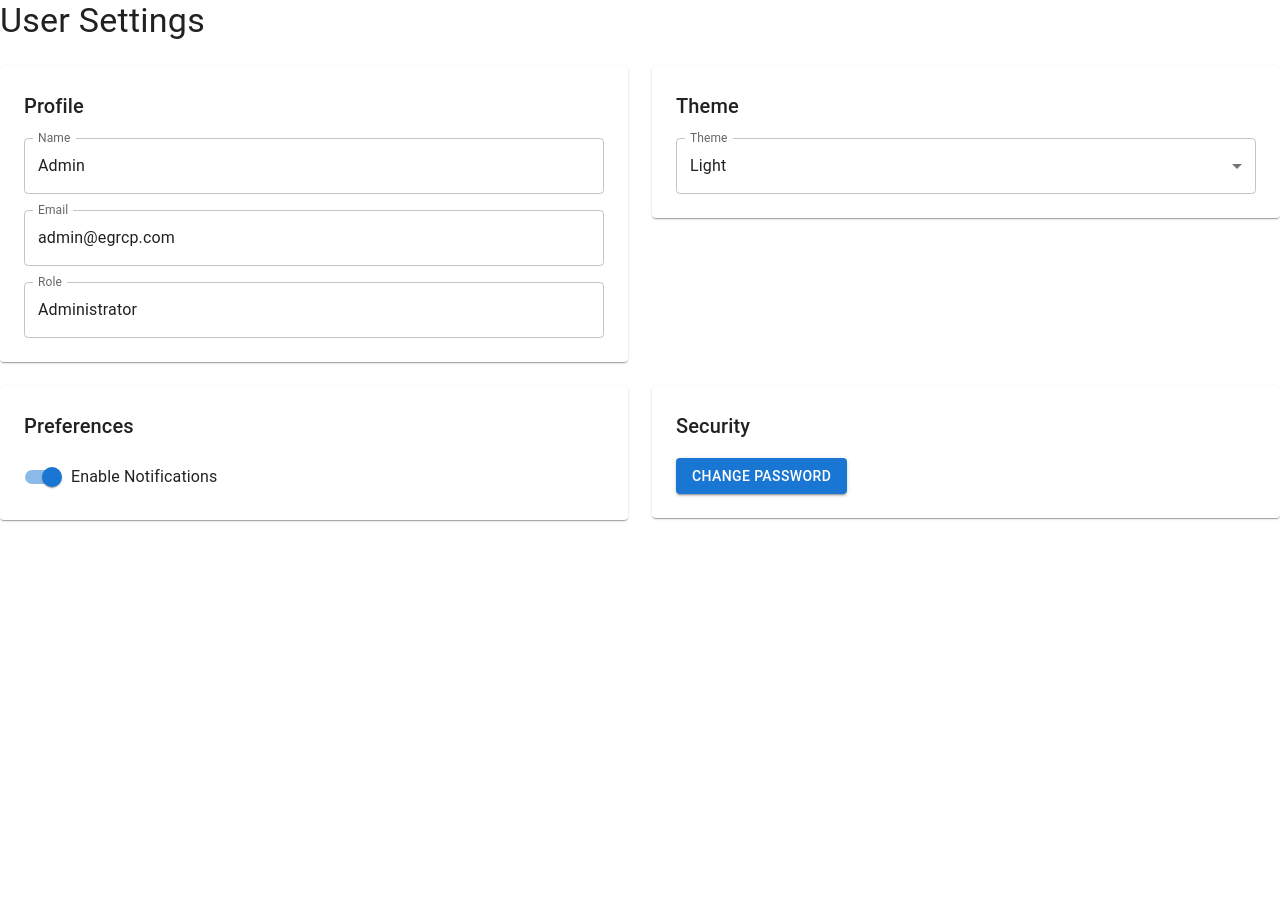
Test: Settings Advanced › shows password mismatch
Click the button "Change Password" at [762, 476], box [676,458,847,494]
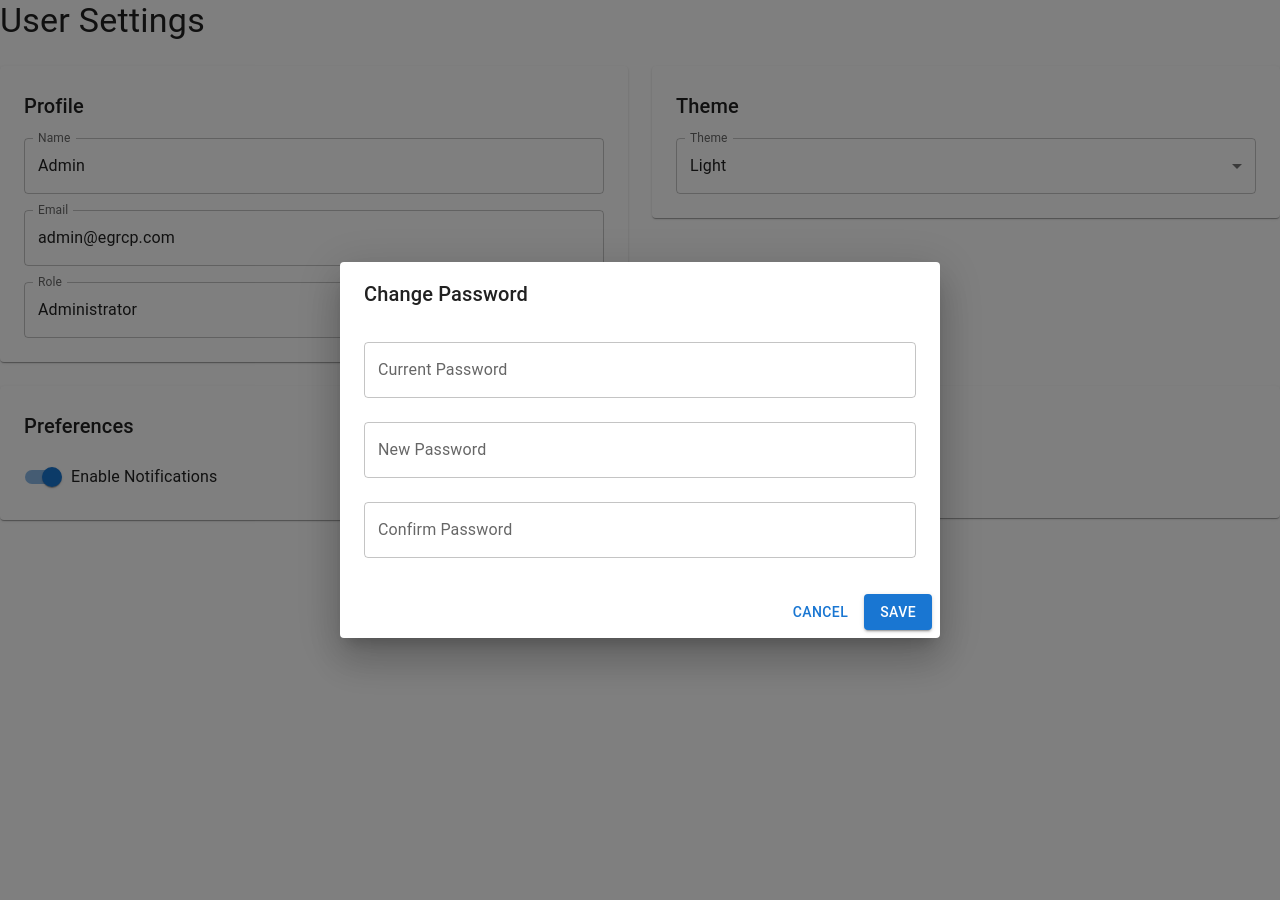
Type "abcdef" into the password field labelled "New Password" at [640, 450], box [364,422,916,478]
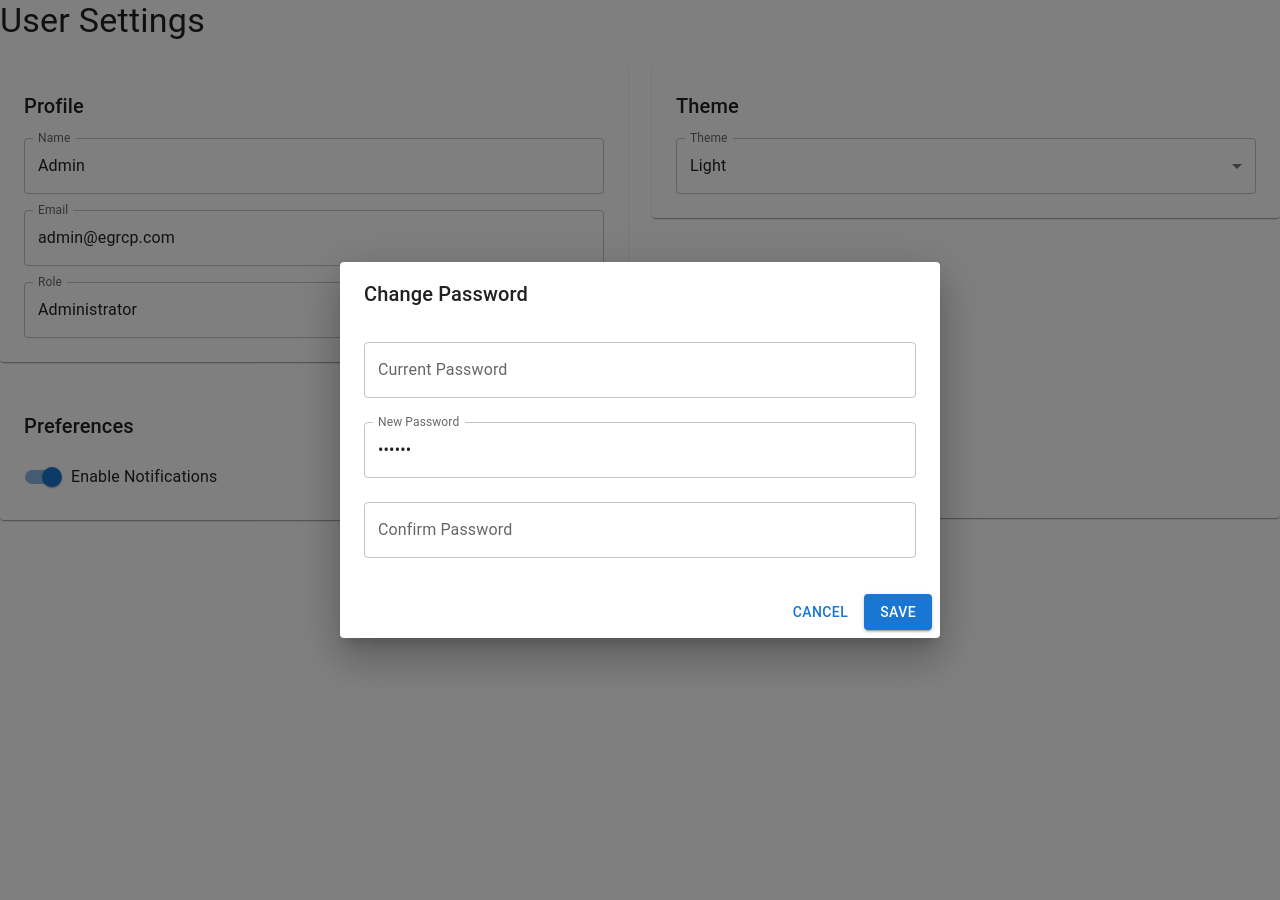
Type "zzzzzz" into the password field labelled "Confirm Password" at [640, 530], box [364,502,916,558]
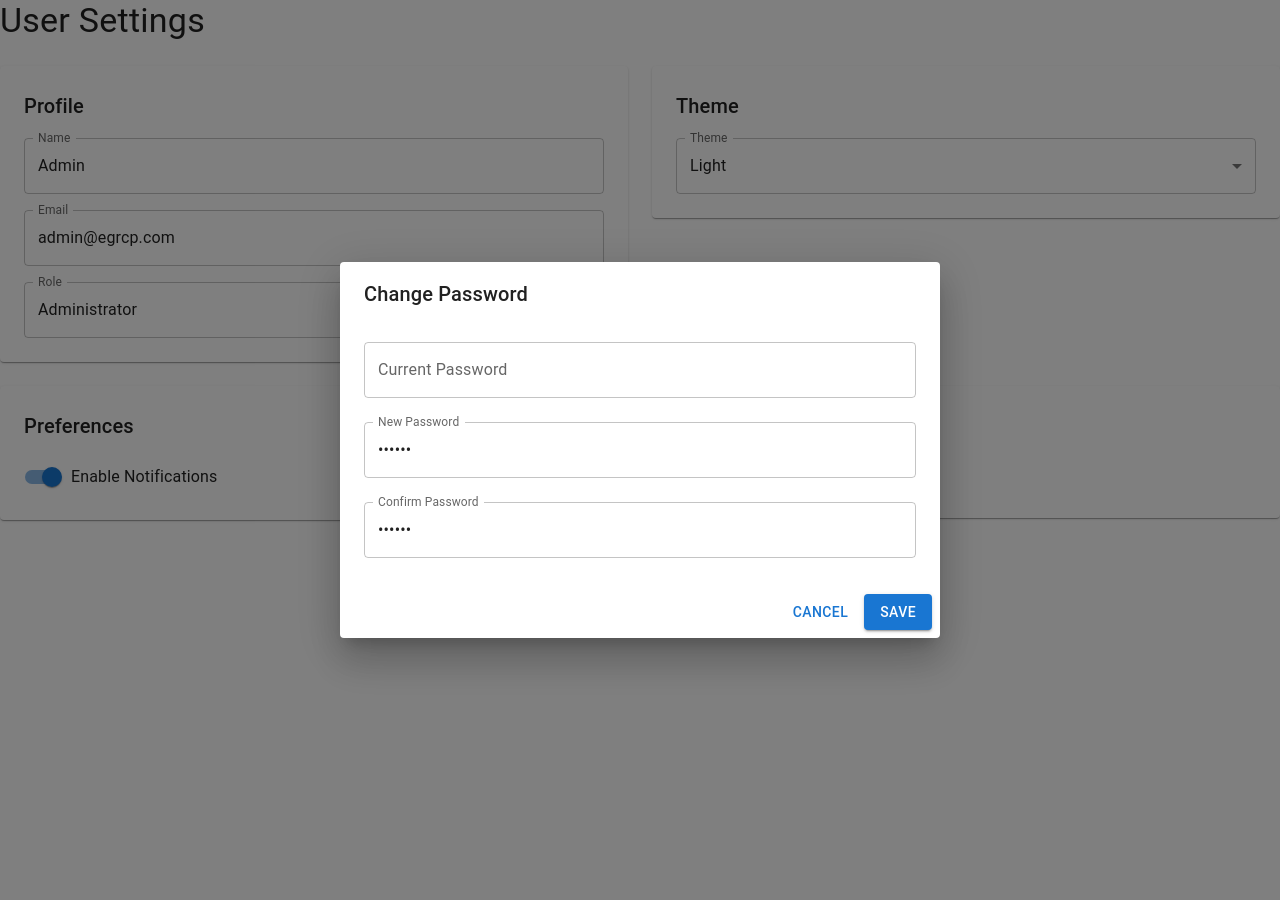
Click the button "Save" at [898, 612], box [864,594,932,630]
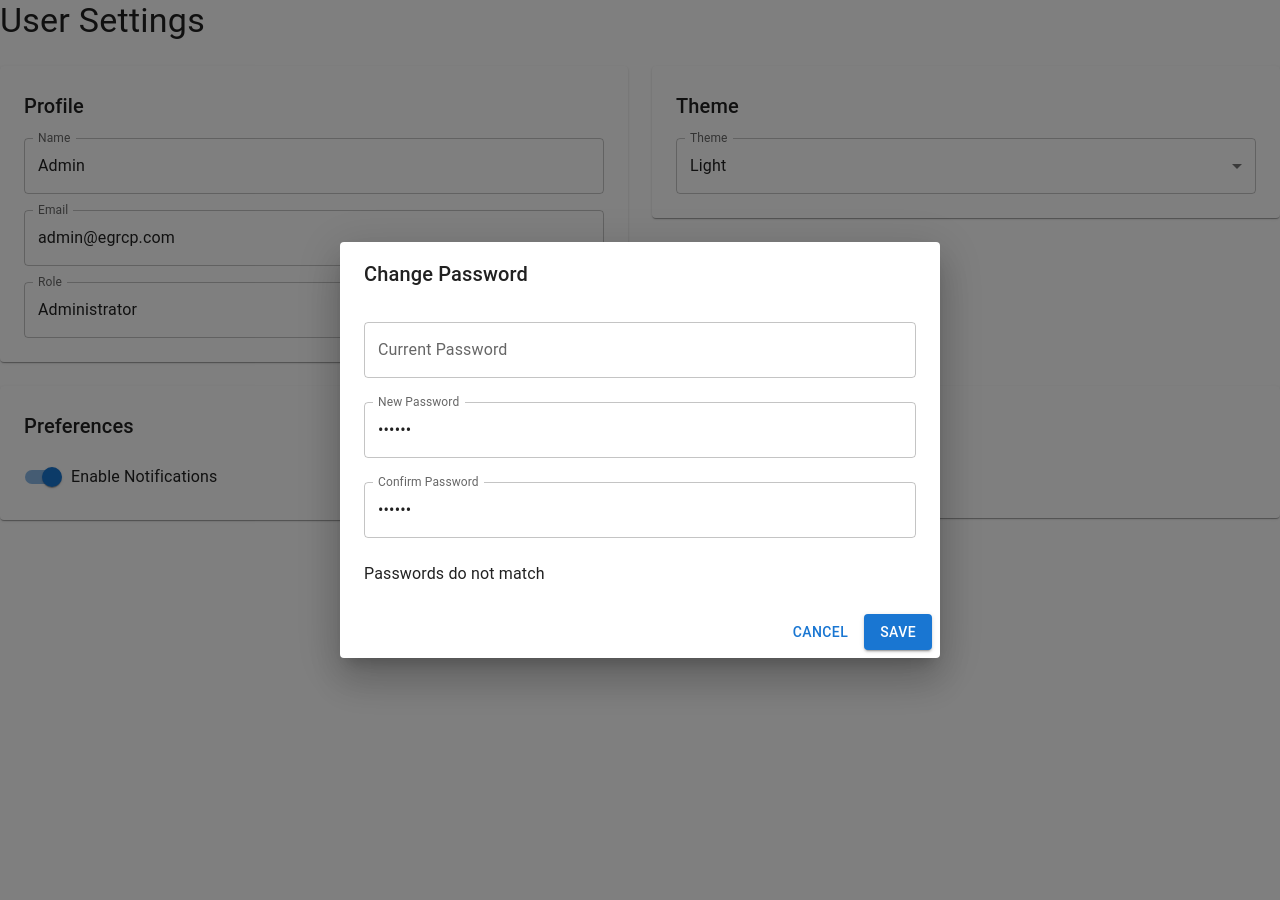
Expected: the text "Passwords do not match" is shown, [364,564,545,583]
